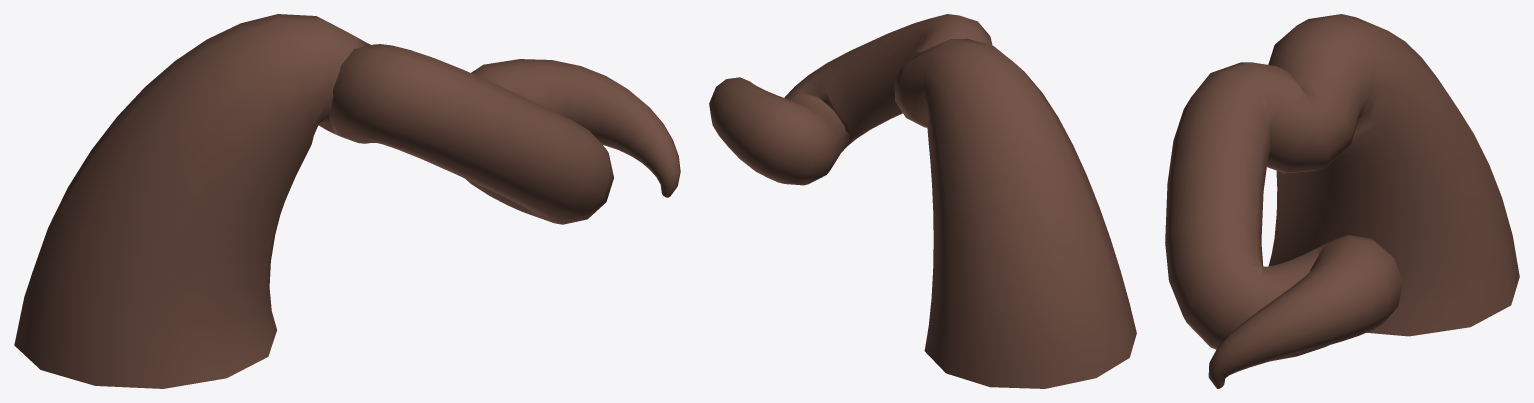
The model's file is Eden_Environment_001_TreeTrunks_003_Rig.fbx.
The picture shows the model from 3 angles, left to right: view 1: azimuth 30°, elevation 25°; view 2: azimuth 150°, elevation 25°; view 3: azimuth 270°, elevation 25°; orthographic projection. The views are drawn at different scales.
Visible parts, largest first — view 1: BezierCurve.Trunk.007; view 2: BezierCurve.Trunk.007; view 3: BezierCurve.Trunk.007.
Boxes of the visible parts, left/top/right/bottom form: BezierCurve.Trunk.007: left=14, top=14, right=680, bottom=388; BezierCurve.Trunk.007: left=709, top=14, right=1136, bottom=388; BezierCurve.Trunk.007: left=1165, top=14, right=1519, bottom=388.
Size of the model in its own units: 933 by 508 by 522.
